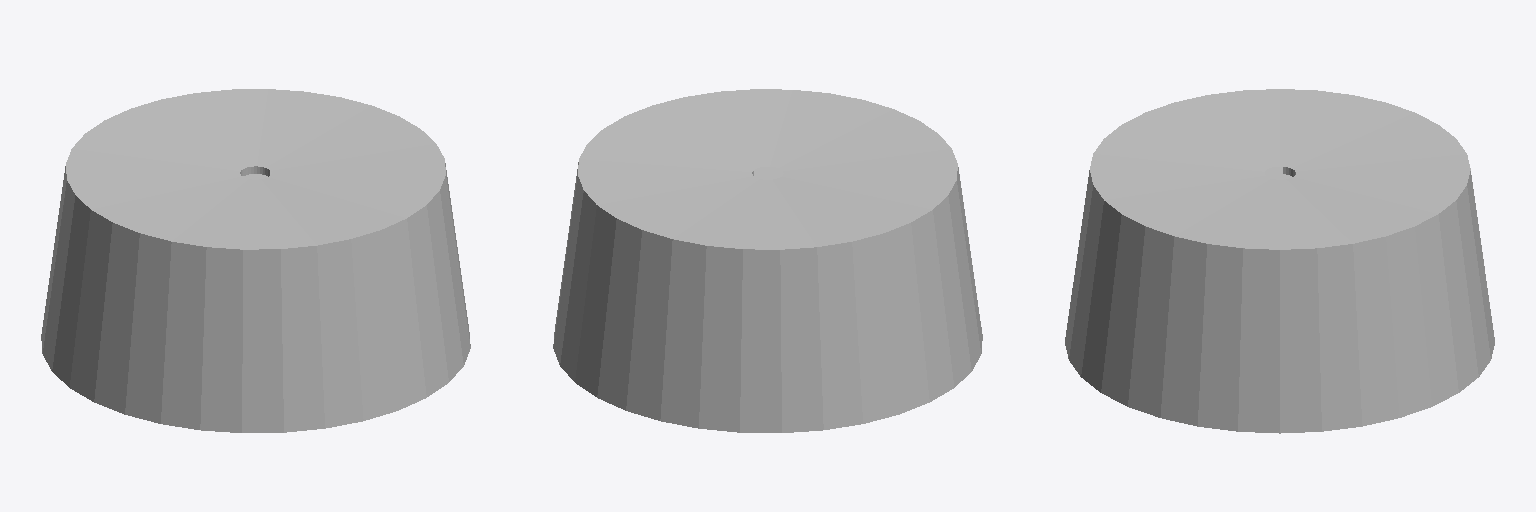
Rendered from lamp2.obj.
3 views of the same model, side by side, from view 1: azimuth 30°, elevation 25°; view 2: azimuth 150°, elevation 25°; view 3: azimuth 270°, elevation 25° (orthographic).
Parts seen in each view (by area): view 1: 柱体.001; view 2: 柱体.001; view 3: 柱体.001.
Part boxes in pixels (x1,y1,x2,y2): 柱体.001: (41,89,470,432); 柱体.001: (553,89,982,432); 柱体.001: (1065,89,1494,433).
Bounding box in the file's own units: 0.363 × 0.1611 × 0.363.